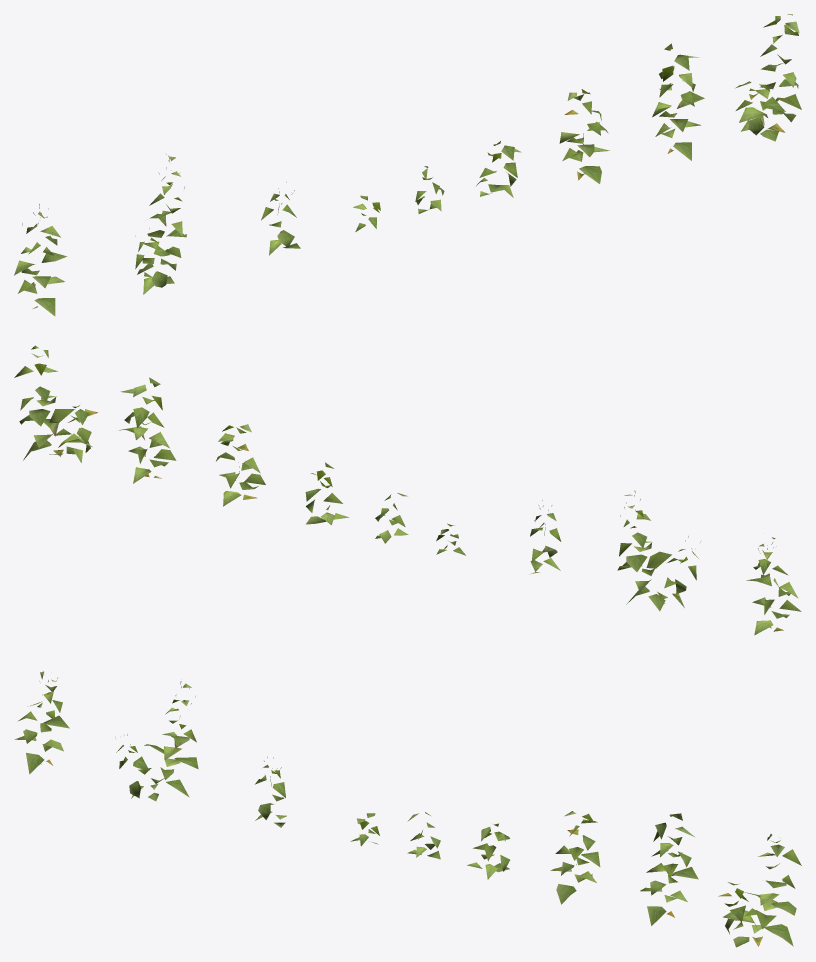
The model's file is shrub_01.glb.
The picture shows the model from 3 angles, top to bottom: view 1: azimuth 30°, elevation 25°; view 2: azimuth 150°, elevation 25°; view 3: azimuth 330°, elevation 25°; orthographic projection. The views are drawn at different scales.
Parts seen in each view (by area): view 1: shrub_01_a; view 2: shrub_01_a; view 3: shrub_01_a.
Boxes of the visible parts, x1=… form: shrub_01_a: x1=14, y1=14, x2=801, y2=316; shrub_01_a: x1=14, y1=345, x2=801, y2=635; shrub_01_a: x1=15, y1=671, x2=801, y2=947.
Bounding box in the file's own units: 2.59 × 0.38 × 0.2056.
1 material, 1 textured.
